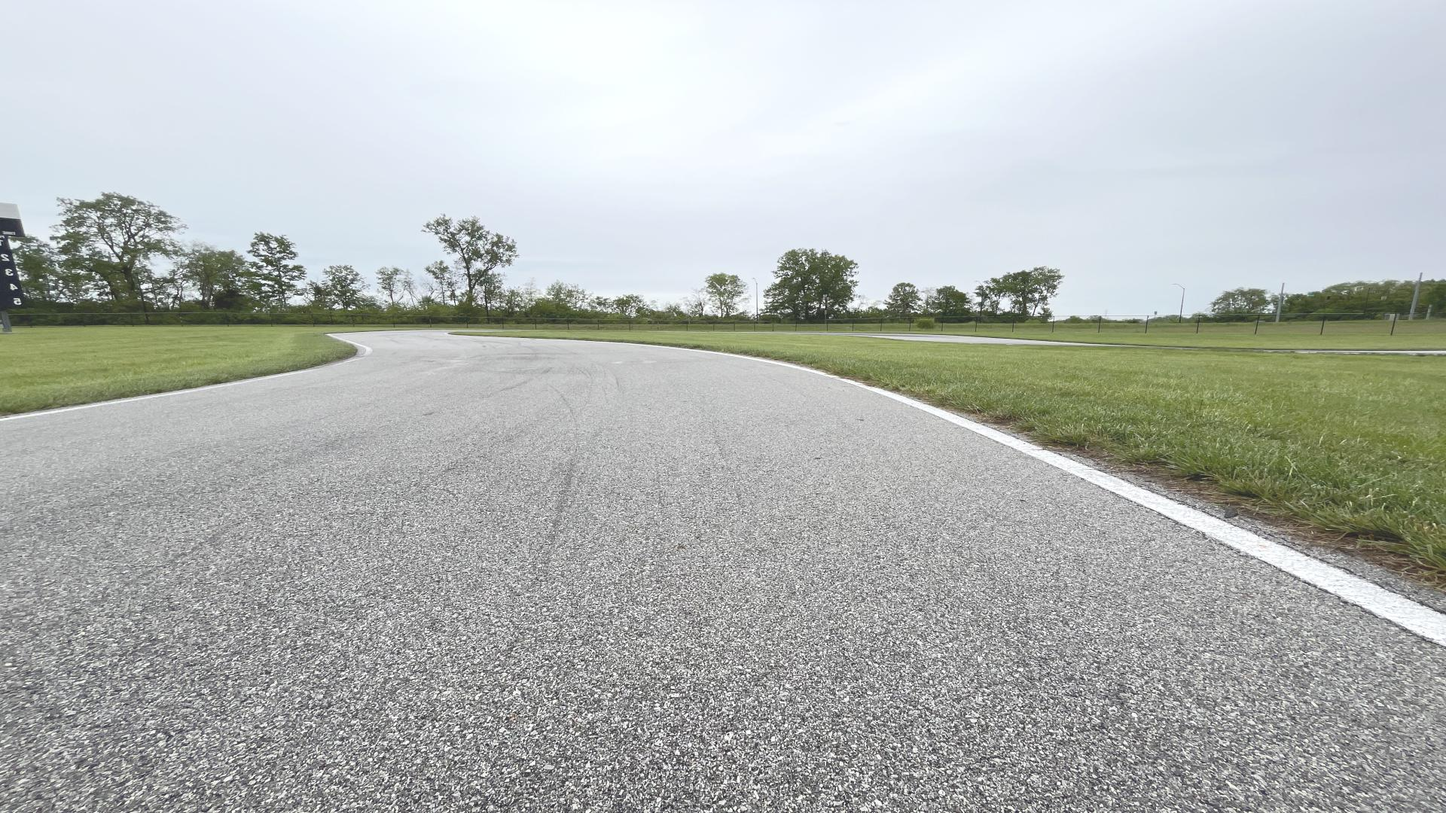white-line: (444, 333, 1445, 649), (0, 332, 371, 421)
